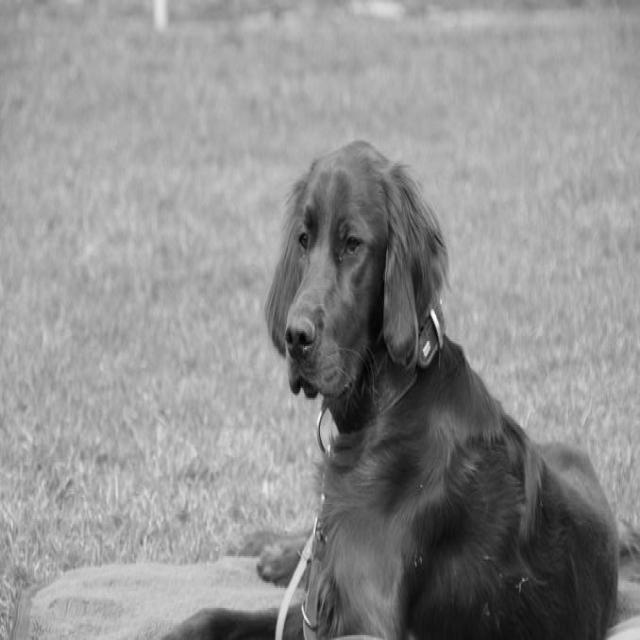laying down: (153, 133, 622, 640)
